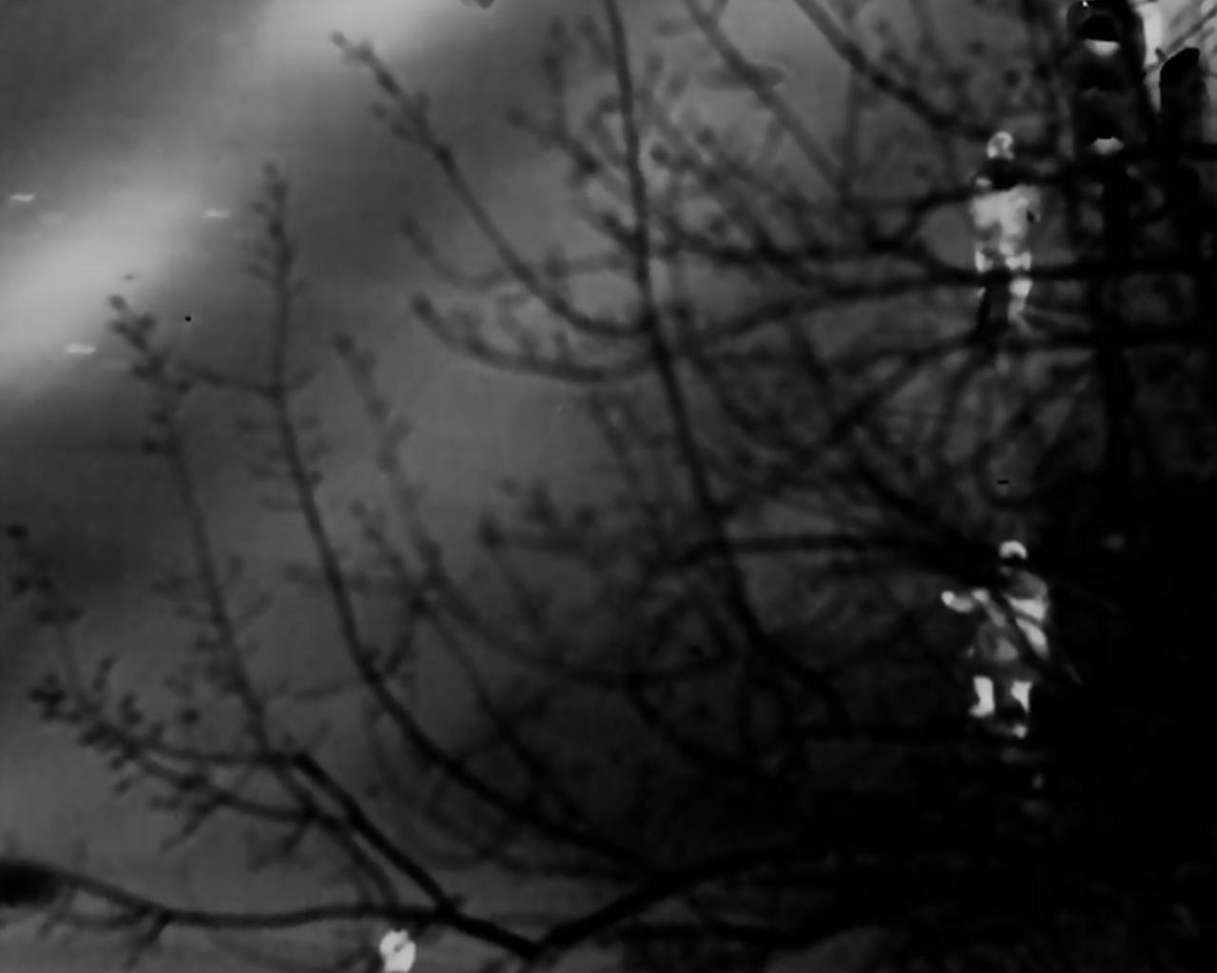person: (928, 532, 1064, 732), (977, 120, 1052, 327)
